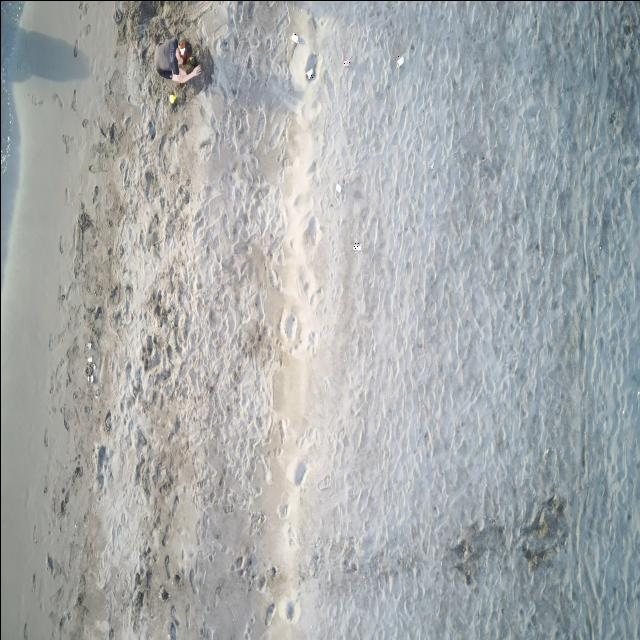Garbage: (395, 55, 404, 67), (304, 68, 313, 80), (291, 32, 298, 43), (168, 94, 176, 103), (352, 241, 360, 249), (343, 57, 350, 65), (335, 183, 340, 192)
